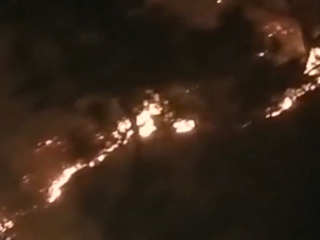fire: (30, 89, 209, 199), (255, 31, 318, 122)
